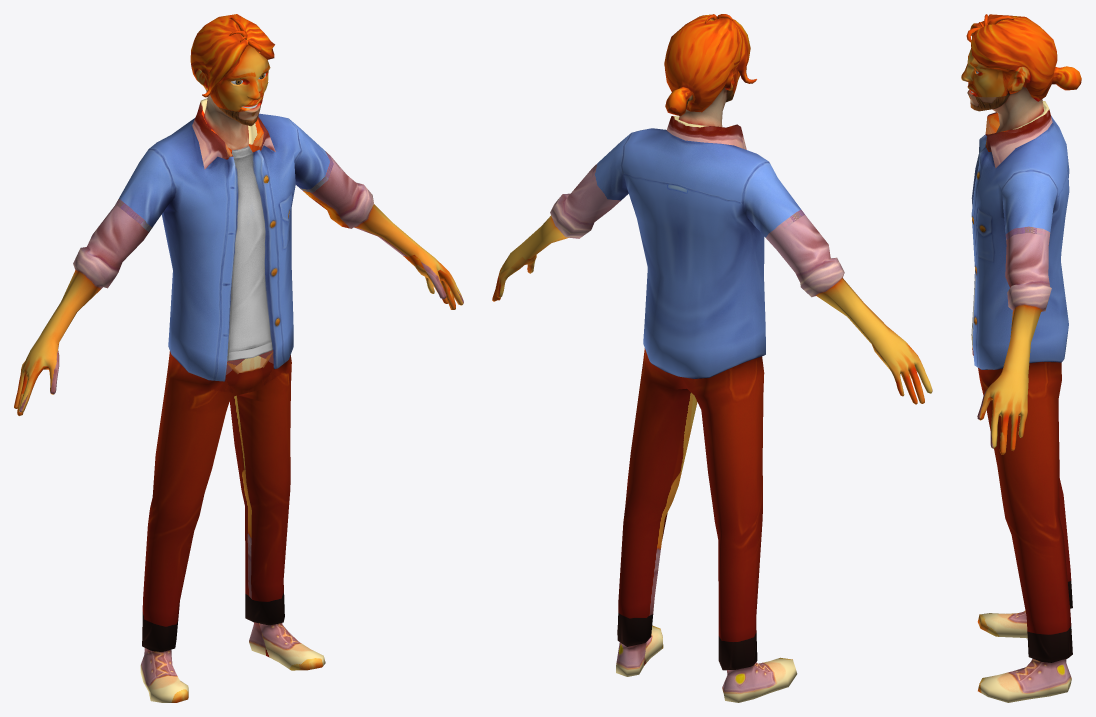
The model's file is glb-4.glb.
3 views of the same model, side by side, from view 1: azimuth 30°, elevation 25°; view 2: azimuth 150°, elevation 25°; view 3: azimuth 270°, elevation 25° (orthographic). The views are drawn at different scales.
Parts seen in each view (by area): view 1: Rupert.001; view 2: Rupert.001; view 3: Rupert.001.
Part boxes in pixels (x1=…): Rupert.001: x1=14, y1=14, x2=463, y2=702; Rupert.001: x1=492, y1=14, x2=932, y2=702; Rupert.001: x1=961, y1=14, x2=1081, y2=702.
Size of the model in its own units: 1266 by 1808 by 305.
1 material, 1 textured.
